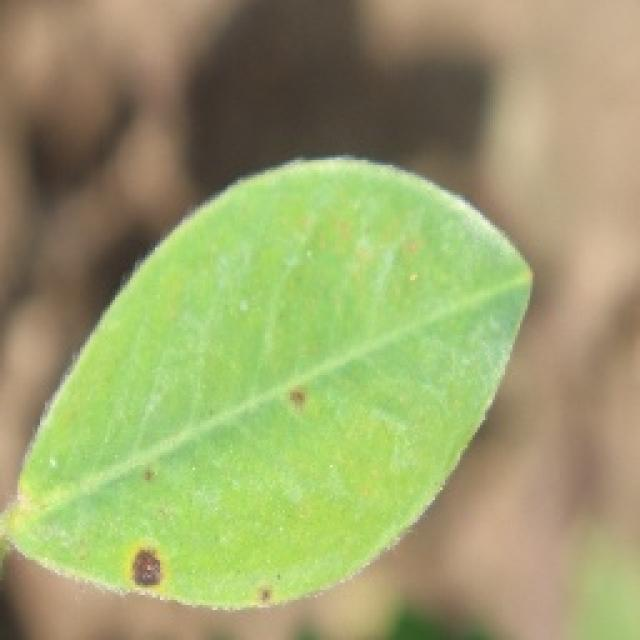Early_leaf_spot: (256, 375, 348, 462), (237, 556, 307, 636), (106, 530, 183, 592)
